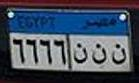6: (38, 37, 52, 66), (53, 37, 67, 65), (11, 37, 25, 65), (25, 38, 39, 65)
noon: (111, 41, 127, 67), (90, 43, 108, 66), (72, 41, 88, 66)
